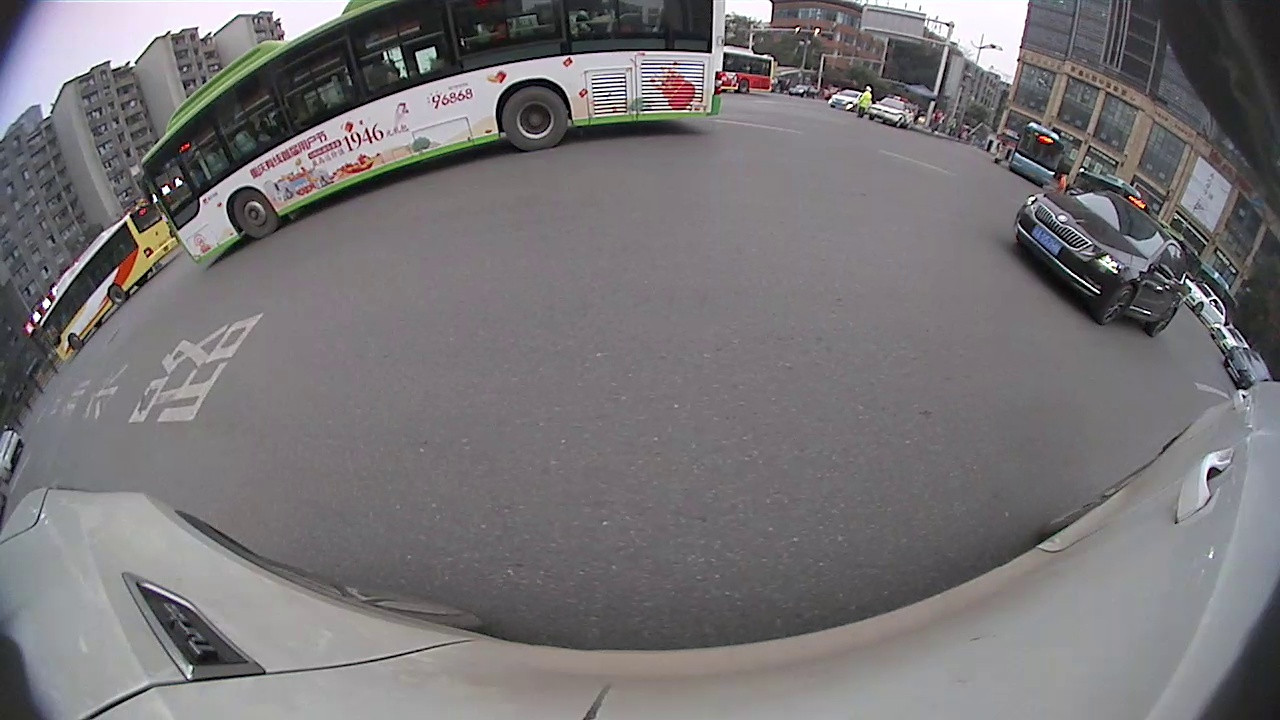bus: (138, 3, 726, 274), (32, 201, 178, 368), (1006, 118, 1068, 187), (1073, 162, 1145, 213), (719, 40, 781, 95)
car: (1011, 189, 1187, 340), (1185, 272, 1229, 331), (1224, 346, 1274, 389), (868, 92, 916, 129), (829, 81, 868, 117), (1210, 319, 1247, 352)
front: (230, 185, 282, 243), (1100, 280, 1140, 327)
person: (858, 85, 873, 118)
rear: (498, 83, 571, 153)
